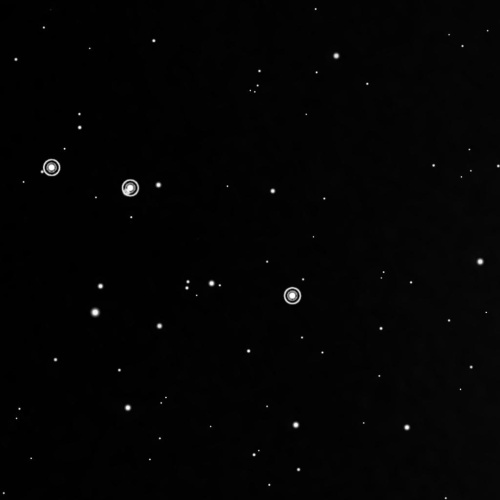vulpecula: (37, 152, 309, 310)
